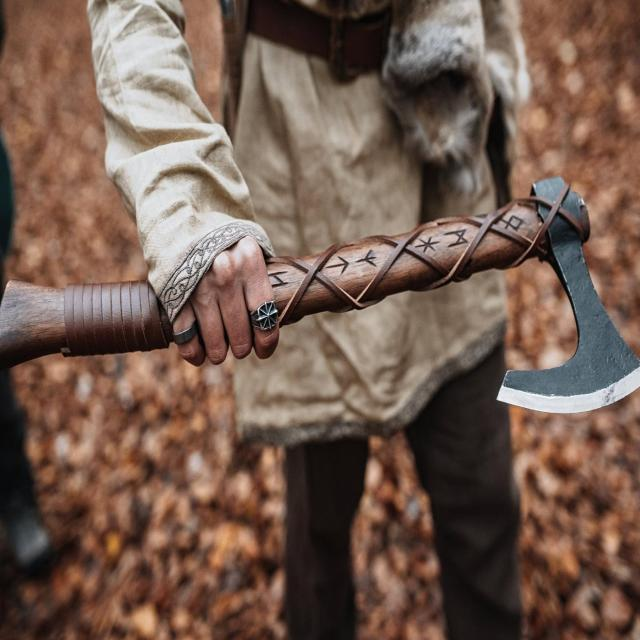axe: (1, 176, 640, 417)
